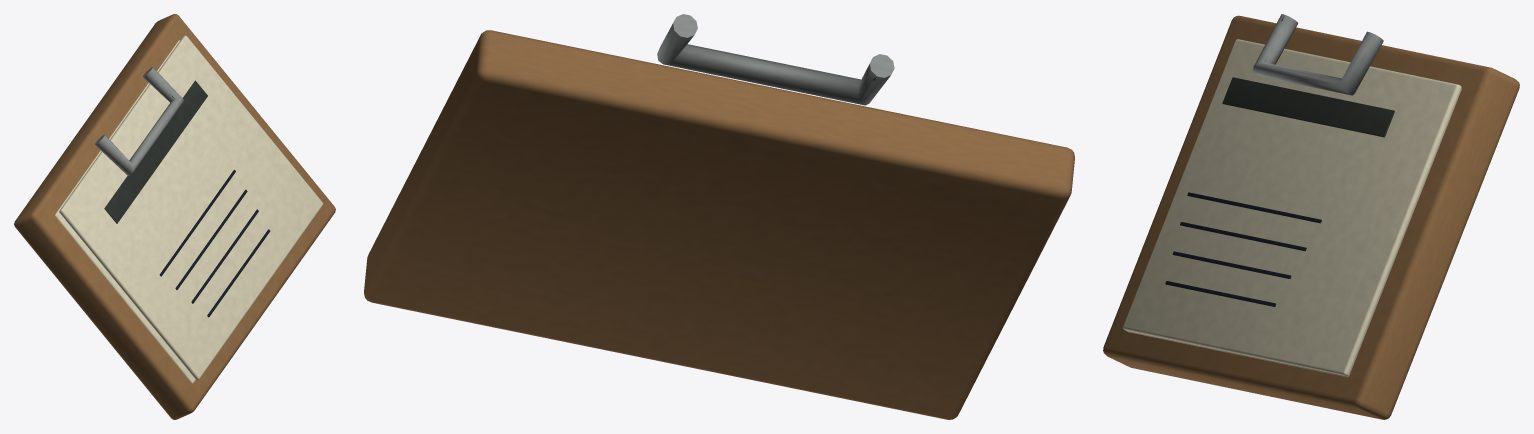
3 renders of one model, left to right at view 1: azimuth 30°, elevation 25°; view 2: azimuth 150°, elevation 25°; view 3: azimuth 270°, elevation 25°, orthographic. The views are drawn at different scales.
Visible parts, largest first — view 1: Rigid report cover; view 2: Rigid report cover; view 3: Rigid report cover.
Part boxes in pixels (left/top/right/bottom): Rigid report cover: left=14, top=14, right=335, bottom=419; Rigid report cover: left=364, top=14, right=1074, bottom=419; Rigid report cover: left=1103, top=14, right=1519, bottom=419.
Size of the model in its own units: 1.37 by 1.03 by 1.01.
Materials: 1 (1 with a texture image).
